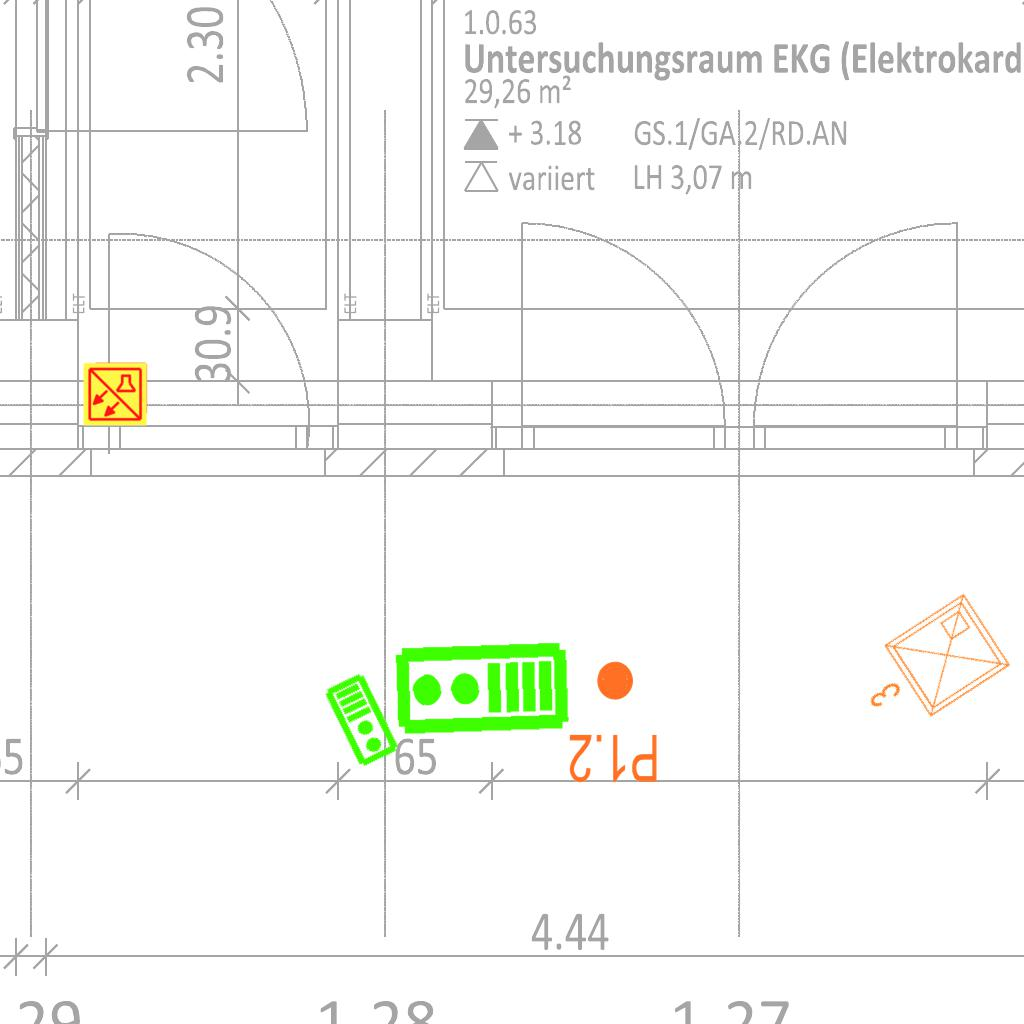Downlight_LED_Einbauleuchten_Flur: (567, 658, 660, 786)
Einbaudownlights_LED_Konferenzraeume: (839, 583, 1023, 753)
Gegensprechanlage_mit_Video: (391, 639, 572, 741), (322, 670, 403, 770)
OKW_Multisensormelder_(Kombination_optischer_Rauch-Kahlenmonoxid_Waerme-Melder): (82, 361, 148, 427)
